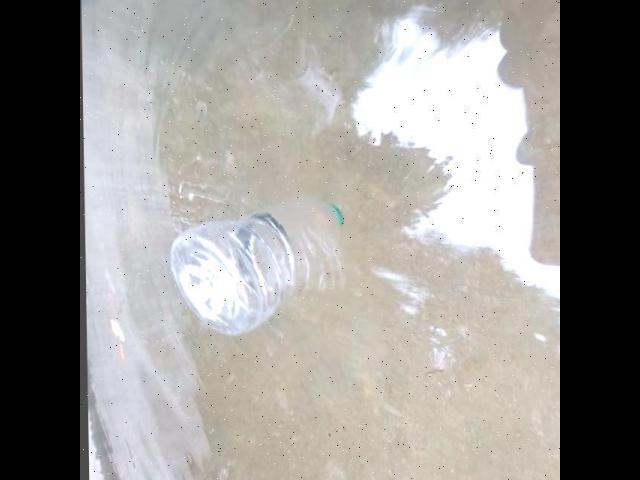Bottle: (156, 188, 353, 346)
